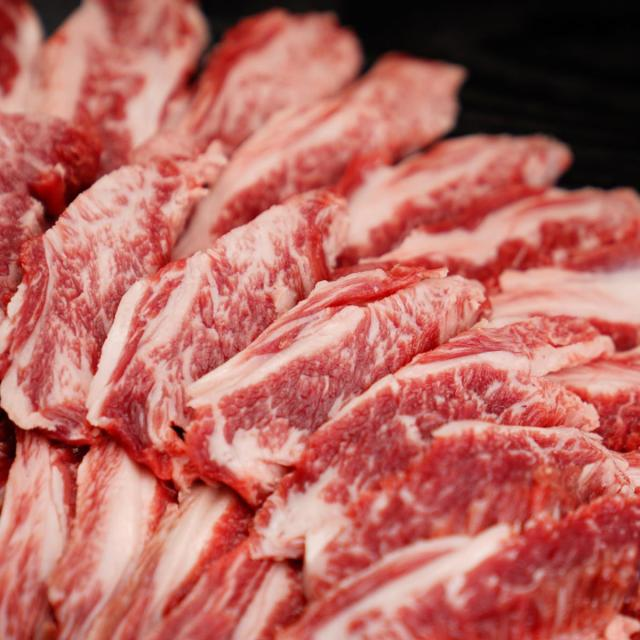beef: (181, 236, 541, 560)
